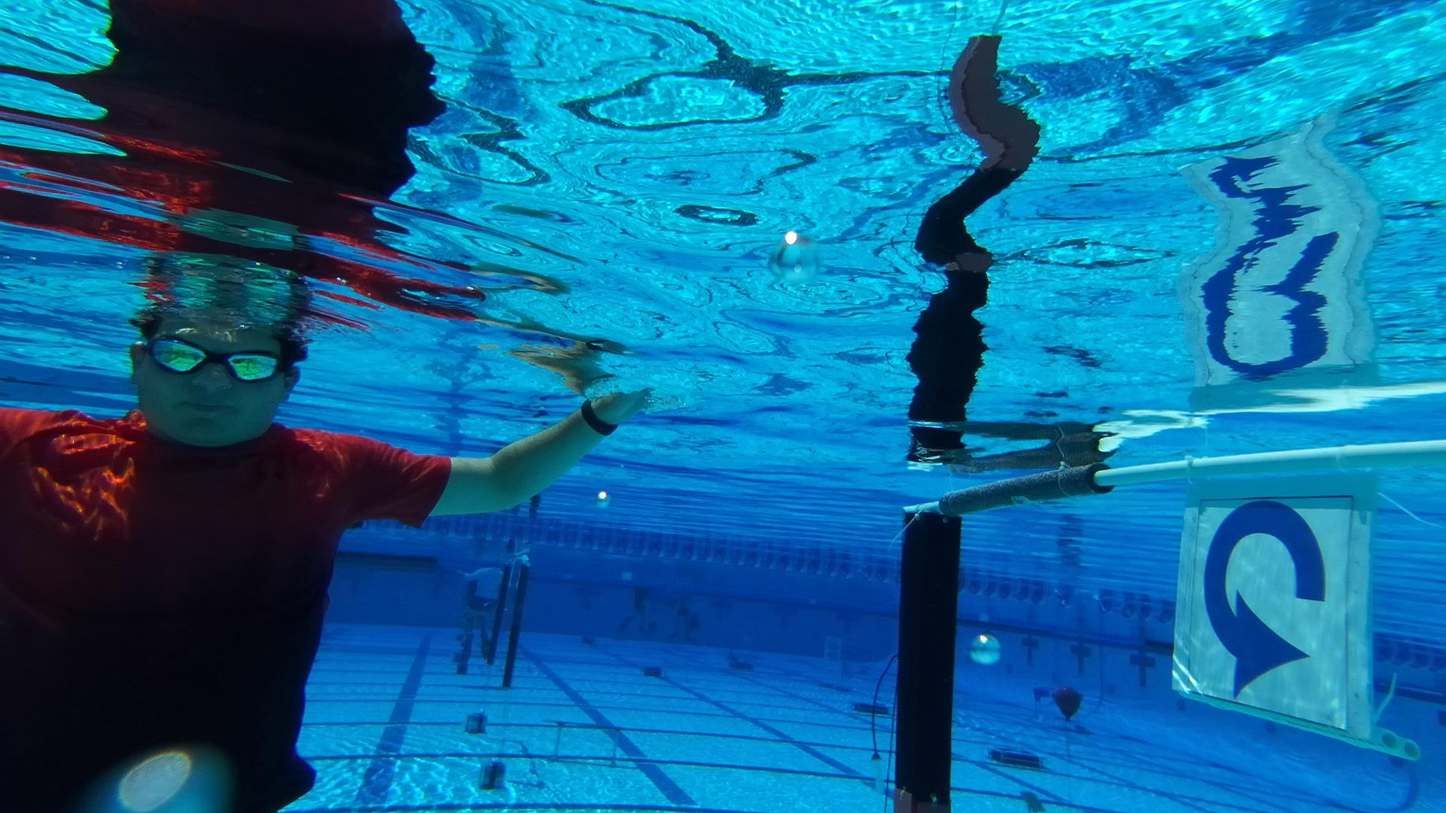blue-gate-sign: (1165, 463, 1399, 756)
buoy: (1053, 686, 1079, 719)
coral-box-side: (1031, 683, 1082, 723)
dropper-box-side: (985, 747, 1046, 768), (852, 702, 891, 715), (728, 662, 754, 670)
path: (540, 717, 631, 768)
red octagon: (826, 652, 832, 659), (833, 653, 838, 661), (828, 642, 832, 649), (834, 644, 838, 650)
